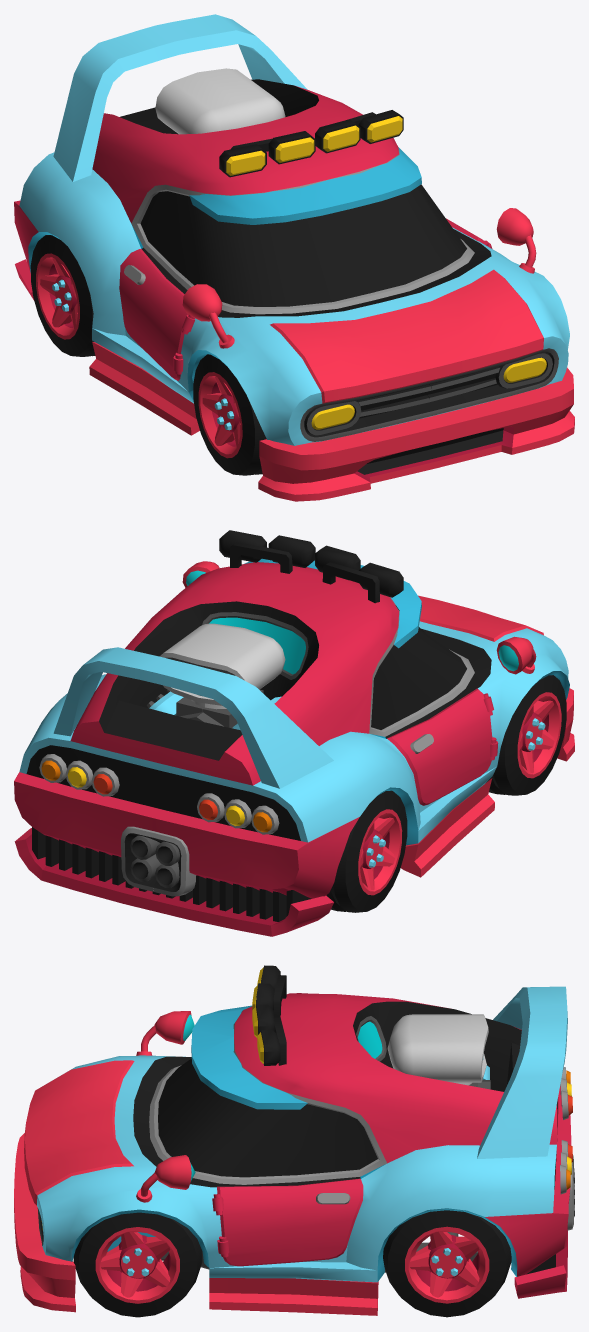
The model's file is VEH17-C.fbx.
3 renders of one model, top to bottom at view 1: azimuth 30°, elevation 25°; view 2: azimuth 150°, elevation 25°; view 3: azimuth 270°, elevation 25°, orthographic. The views are drawn at different scales.
Visible parts, largest first — view 1: VEH17_C, V17C_Wheel_FR, V17C_Wheel_BR; view 2: VEH17_C, V17C_Wheel_BR, V17C_Wheel_FR; view 3: VEH17_C, V17C_Wheel_BL, V17C_Wheel_FL.
Part boxes in pixels (<box>): VEH17_C: <box>14,14,574,501</box>; V17C_Wheel_FR: <box>193,354,266,475</box>; V17C_Wheel_BR: <box>30,235,95,356</box>; VEH17_C: <box>14,530,574,936</box>; V17C_Wheel_BR: <box>326,790,407,912</box>; V17C_Wheel_FR: <box>486,675,566,795</box>; VEH17_C: <box>14,965,574,1315</box>; V17C_Wheel_BL: <box>383,1210,511,1317</box>; V17C_Wheel_FL: <box>73,1212,202,1317</box>.
Size of the model in its own units: 260 by 189 by 388.
1 material, 1 textured.
